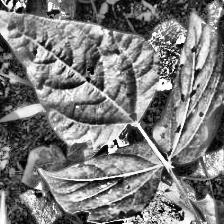ALS: (0, 4, 142, 132), (156, 20, 224, 163), (50, 140, 150, 224)
